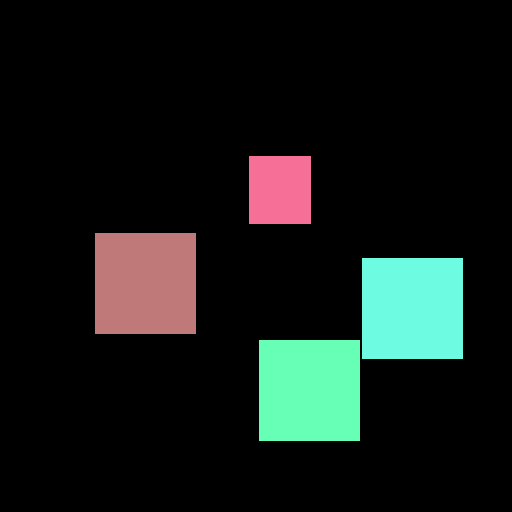square: (259, 340, 359, 440), (362, 258, 462, 358), (95, 233, 195, 333), (249, 156, 310, 223)
